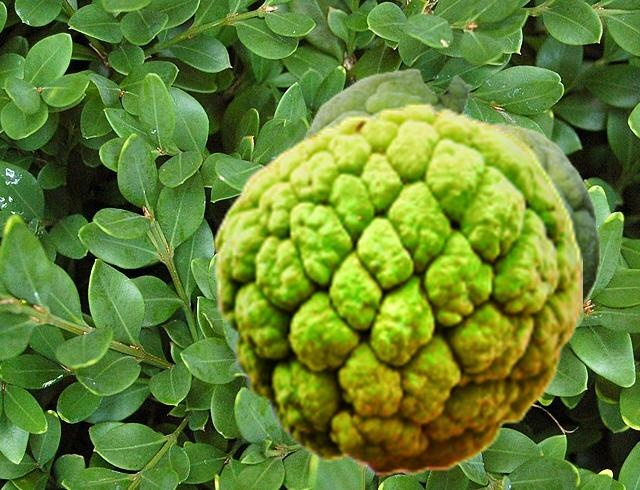atis: (212, 101, 581, 476), (300, 67, 599, 315)
